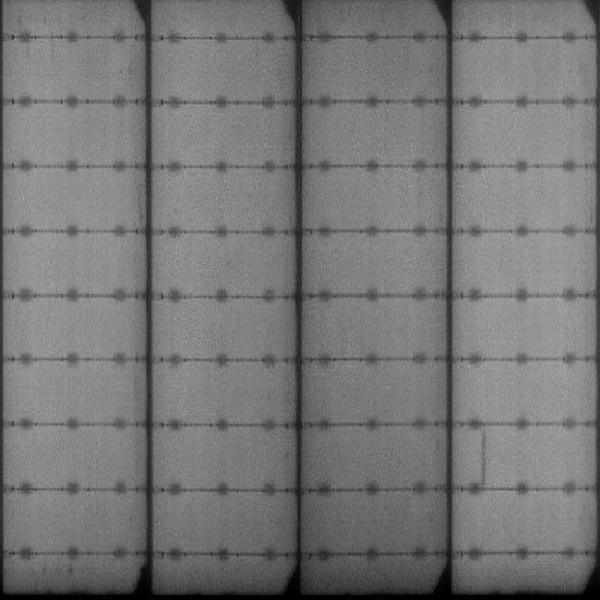scratch: (474, 430, 492, 489)
